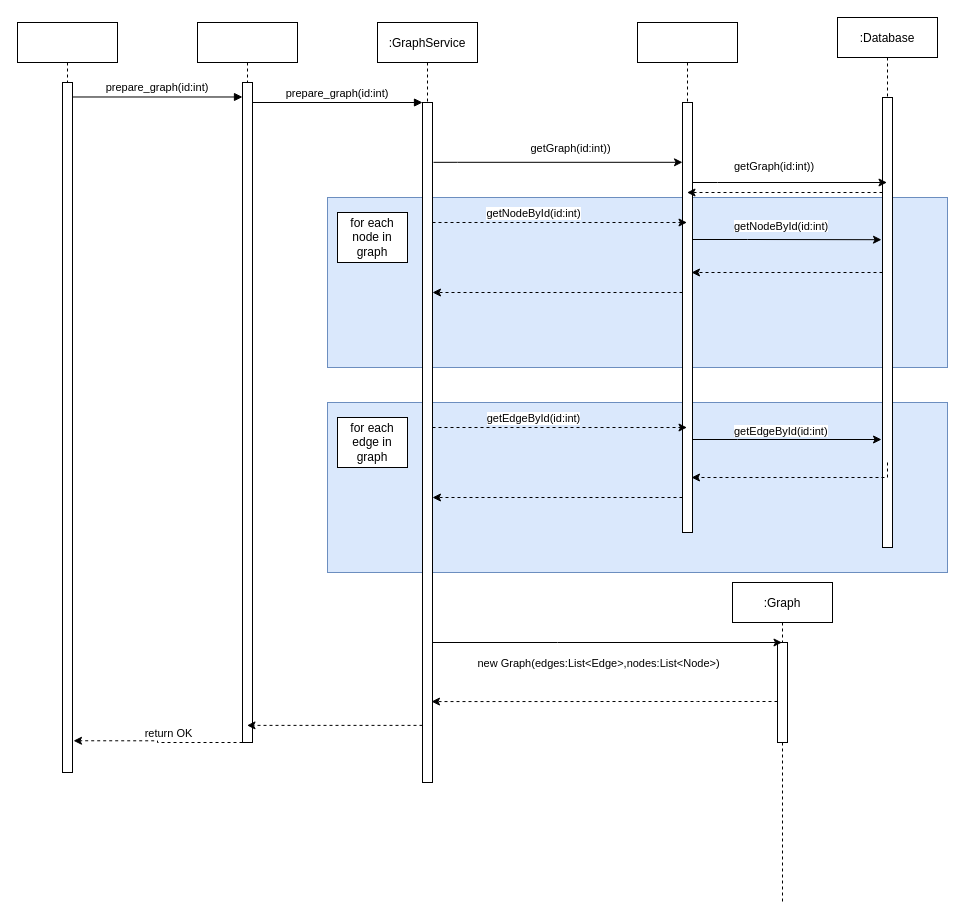
Some shapes in this 965 by 920 pixel diagram are drawn without their labels. Each missing label, with the box of its shape:
:APIController: (196, 22, 298, 742)
:MongoRepository: (636, 22, 738, 532)
Website: (16, 22, 118, 772)
